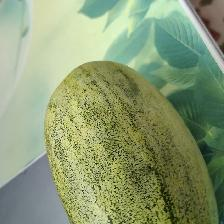gua: (54, 70, 178, 217)
